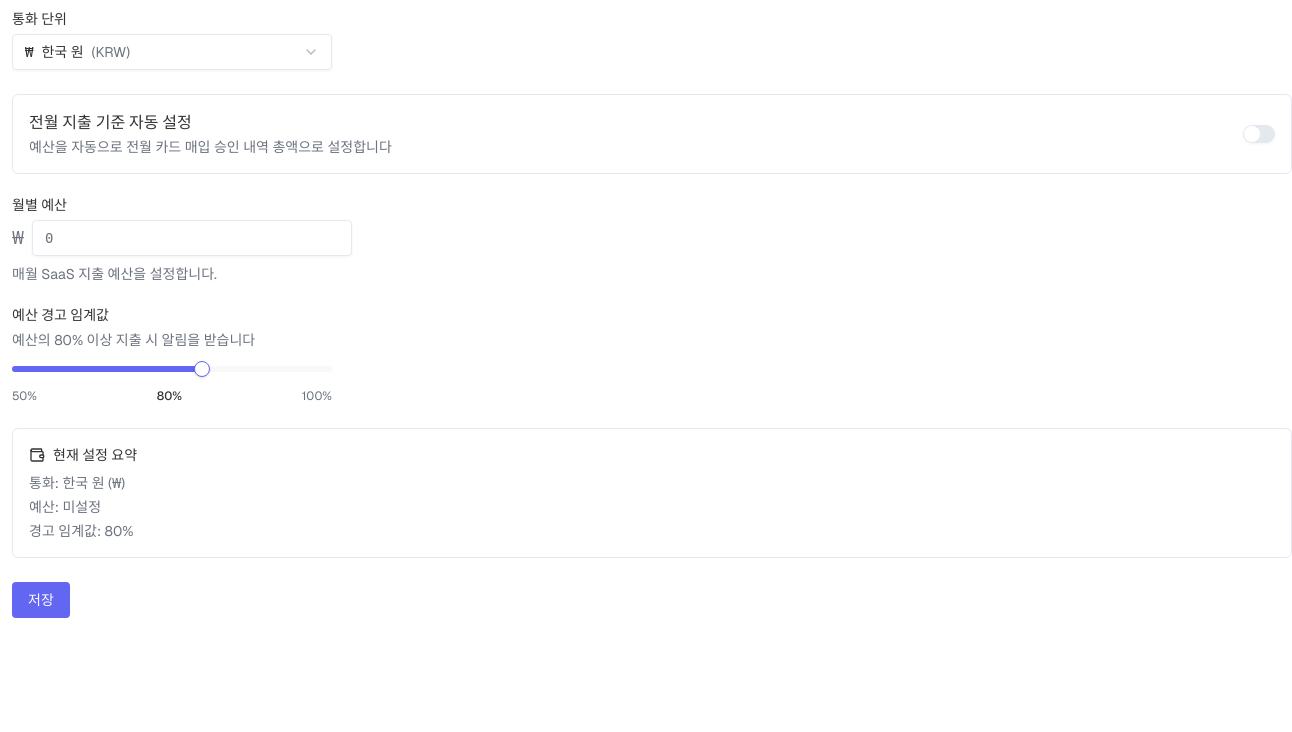
Test: BudgetSettingsForm › should format currency input correctly
This screenshot has width=1292, height=732.
In the field labelled "월별 예산": [192, 238] box [32,220,352,256], type "1000000"
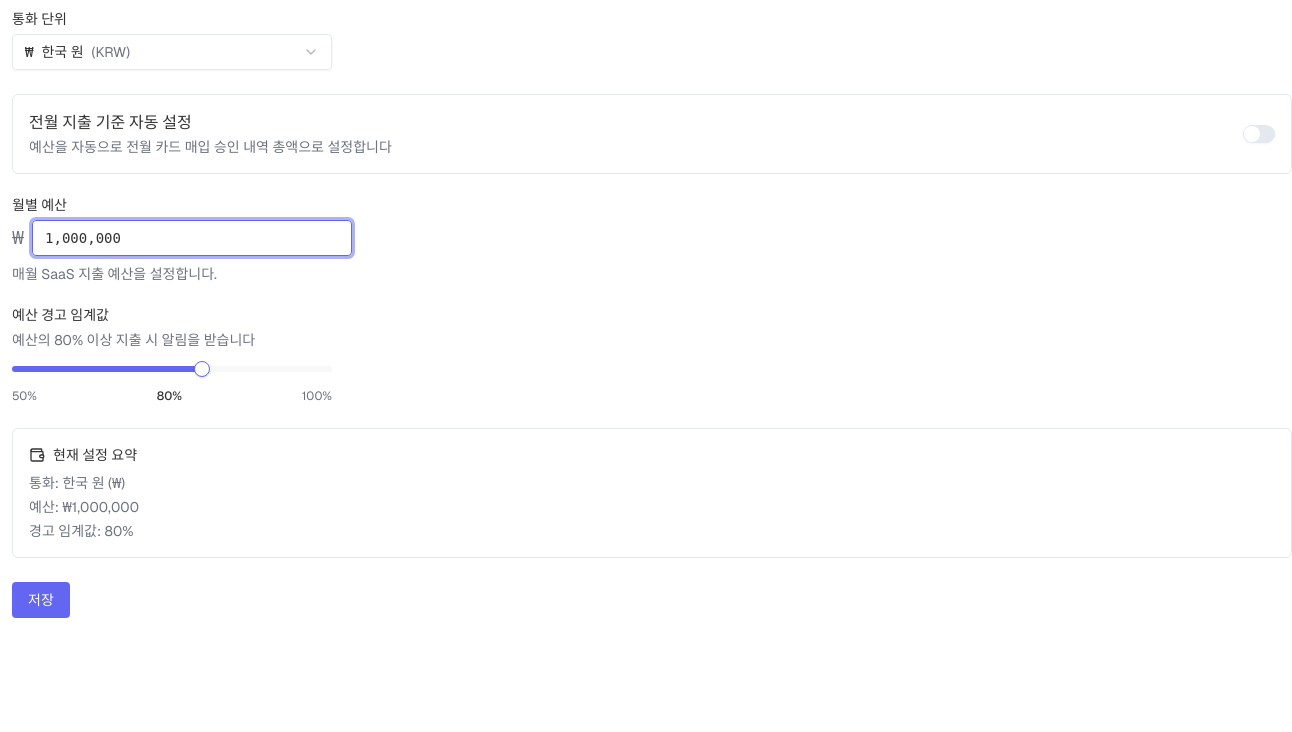
Result: the field labelled "월별 예산" holds "1,000,000" at [32,220,352,256]
